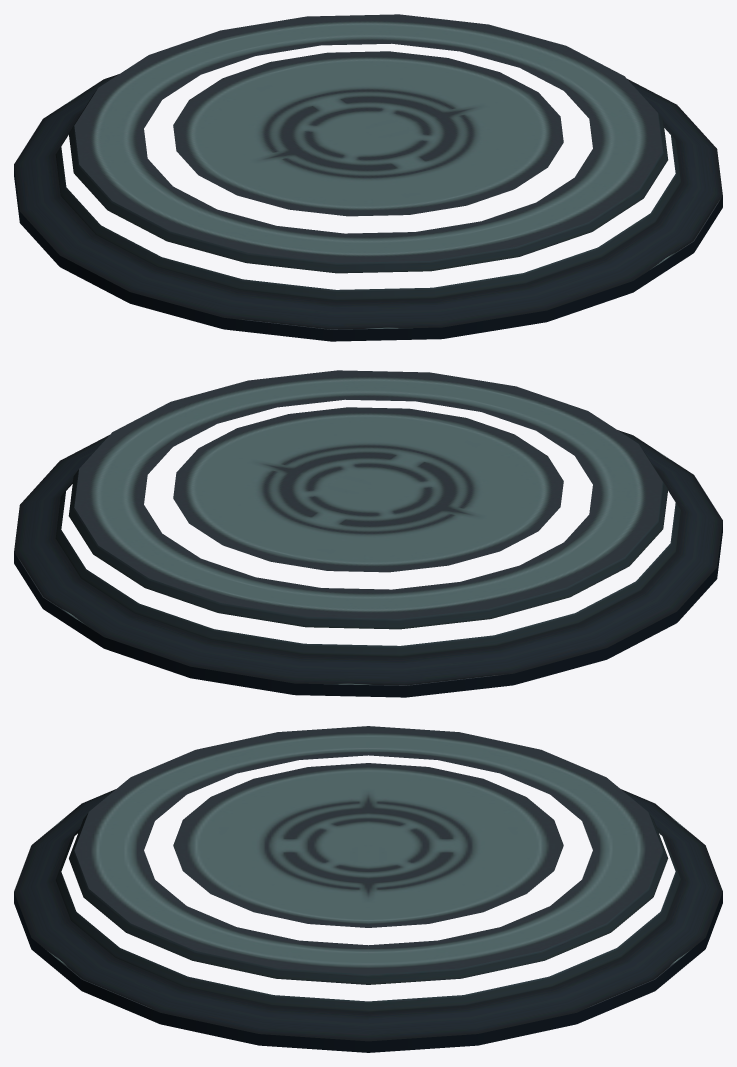
The model's file is ts_zjmckt001.FBX.
The picture shows the model from 3 angles, top to bottom: view 1: azimuth 30°, elevation 25°; view 2: azimuth 150°, elevation 25°; view 3: azimuth 270°, elevation 25°; orthographic projection.
Visible parts, largest first — view 1: ts_zjmckt001; view 2: ts_zjmckt001; view 3: ts_zjmckt001.
Part boxes in pixels (left/top/right/bottom): ts_zjmckt001: left=14, top=14, right=722, bottom=341; ts_zjmckt001: left=14, top=370, right=722, bottom=697; ts_zjmckt001: left=14, top=726, right=722, bottom=1052.
Size of the model in its own units: 4.03 by 0.3614 by 4.03.
